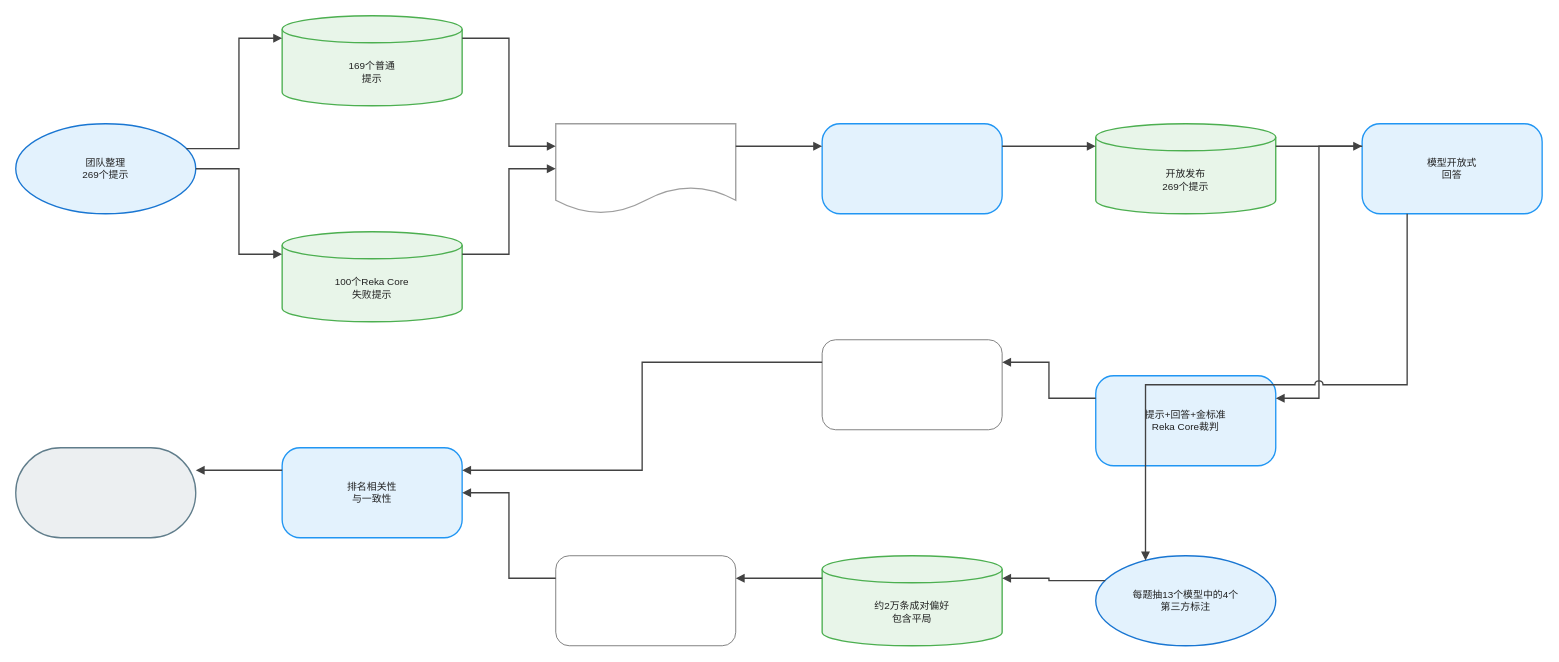
Some shapes in this 1559 by 662 pixel diagram are drawn without their labels. Here are the shapes that lost their labels. From the top down, the centre of each, then its label:
the point at 645,168: 每题配人工 金标准回答
the point at 911,168: 两轮独立 复核
the point at 911,384: 1至5分评分3次 温度0.4取均值
the point at 105,492: 自动与人工 Vibe-Eval排名
the point at 645,600: Bradley–Terry 人工ELO
